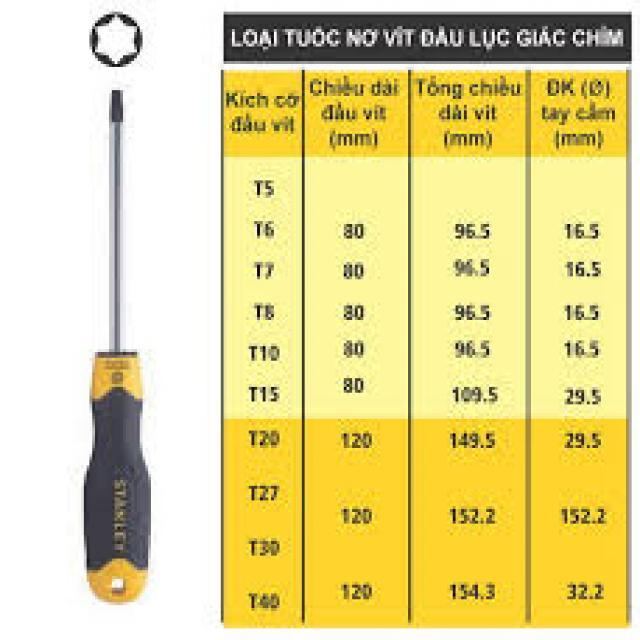screwdriver: (81, 82, 154, 606)
